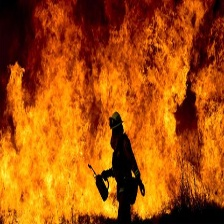fire: (4, 3, 224, 213)
